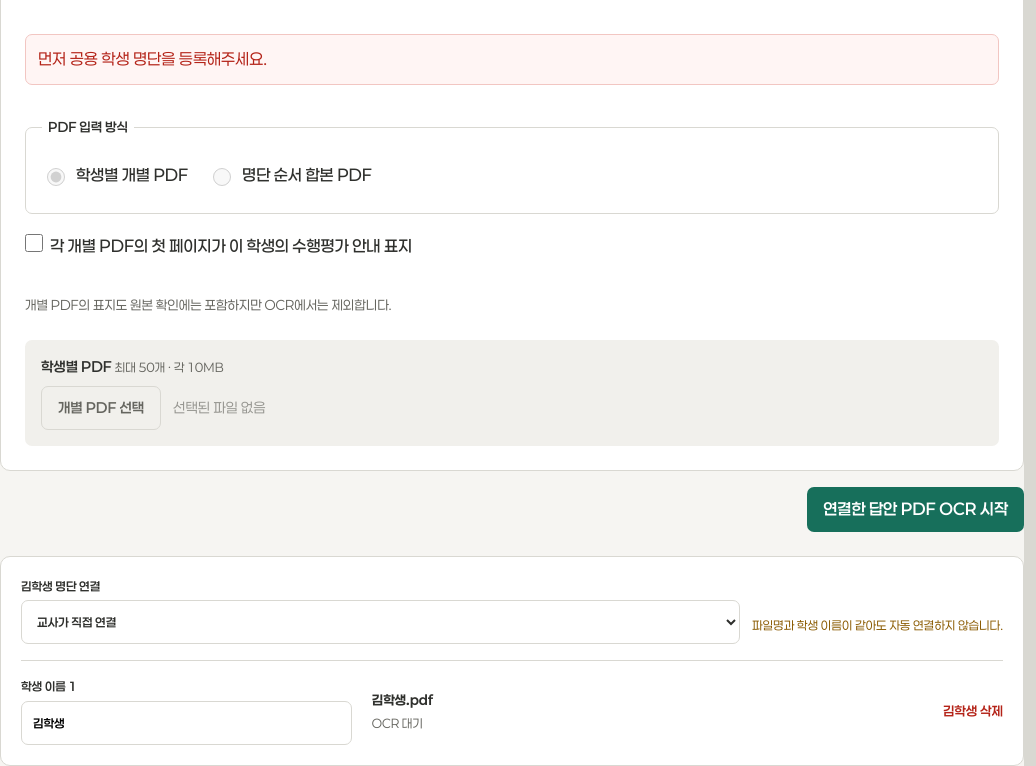
Test: does not restore a deleted student when an in-flight OCR request finishes
The image size is (1036, 766).
(page scrolled)
Click the button "연결한 답안 PDF OCR 시작". click: (916, 510)
box: [807, 487, 1024, 532]
(page scrolled)
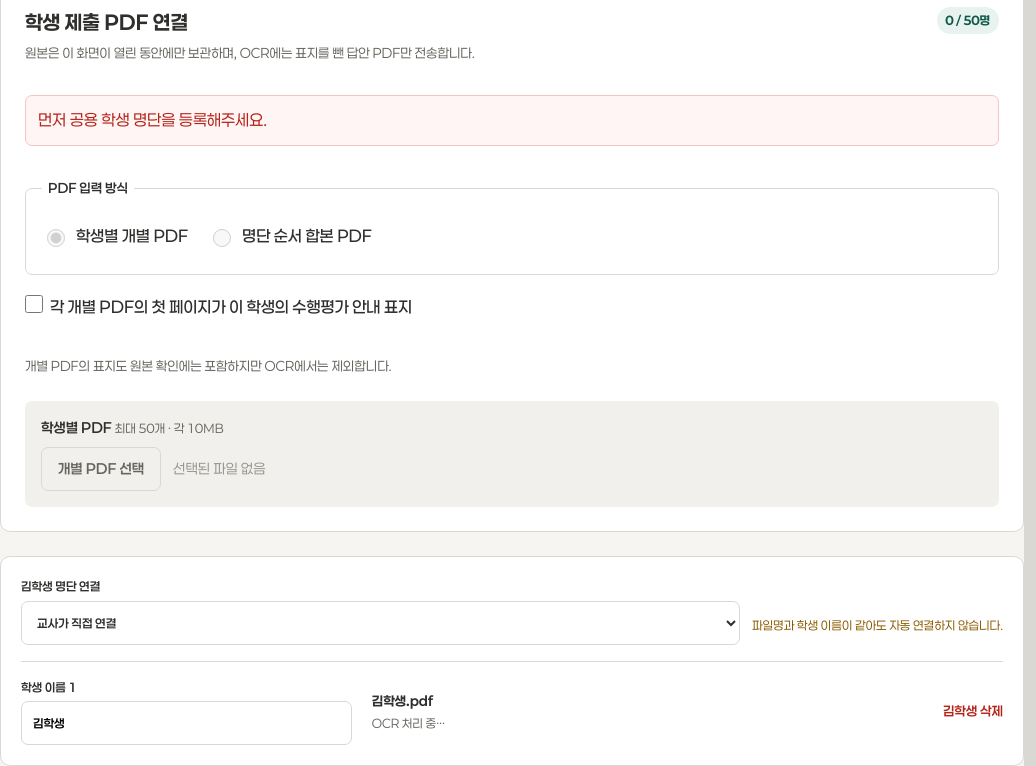
Click the button "김학생 삭제". click: (973, 712)
box: [943, 690, 1003, 734]
(page scrolled)
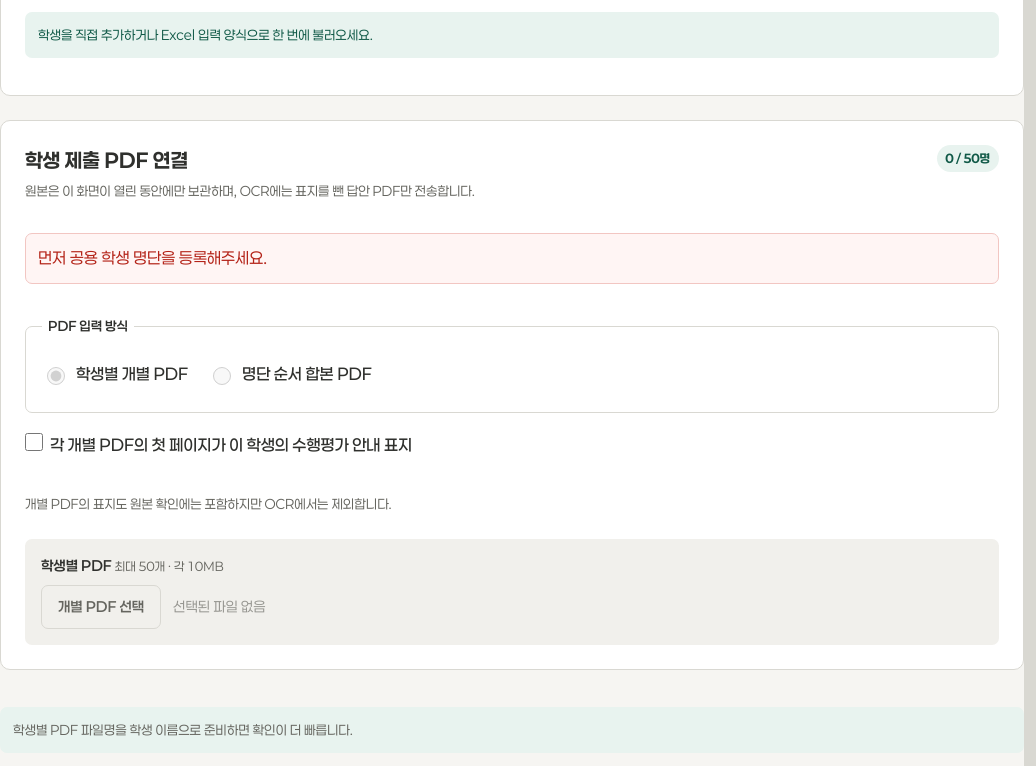
Expected: the label showing "김학생" is gone
